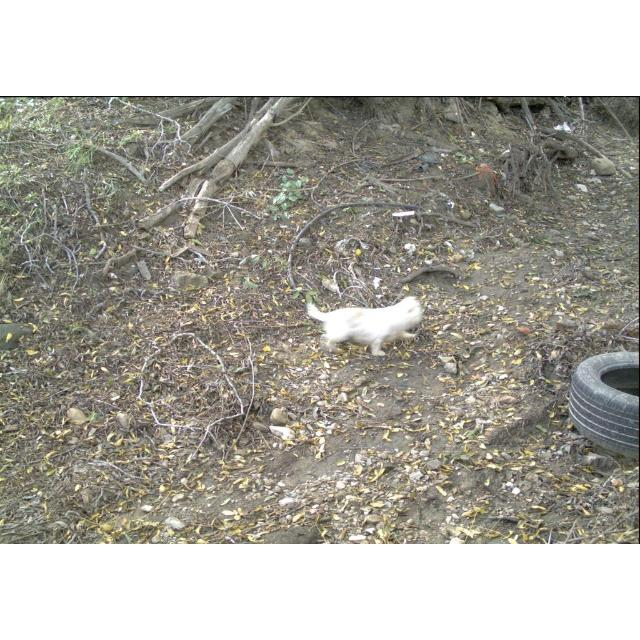animals: (304, 296, 424, 354)
